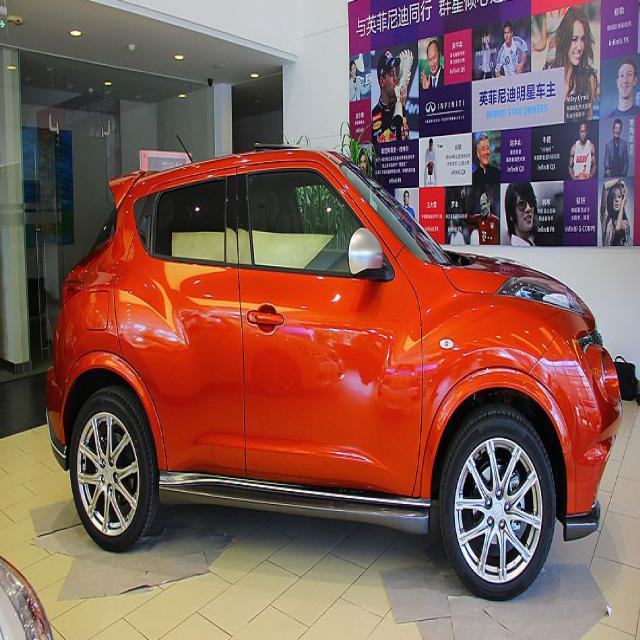door: (115, 158, 242, 472)
front_bumper: (531, 322, 624, 539)
front_glass: (342, 152, 452, 268)
front_right_side_door: (231, 149, 426, 502)
front_right_side_light: (504, 267, 584, 329)
front_right_side_mirror: (346, 210, 384, 282)
wheel: (438, 404, 555, 598), (69, 389, 152, 551)
